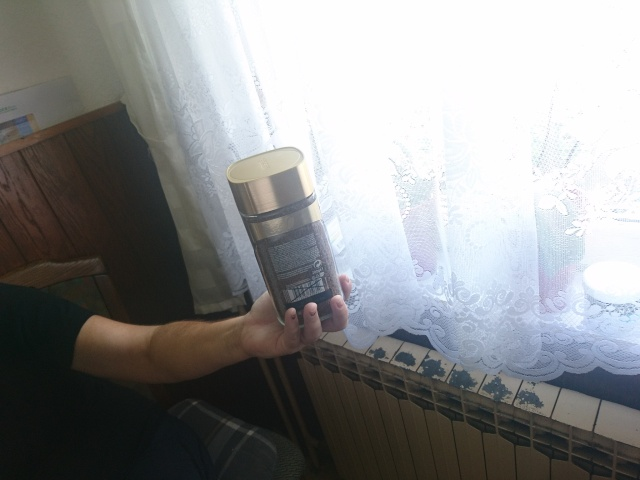Nescafe Gold 225g: (224, 144, 348, 330)
